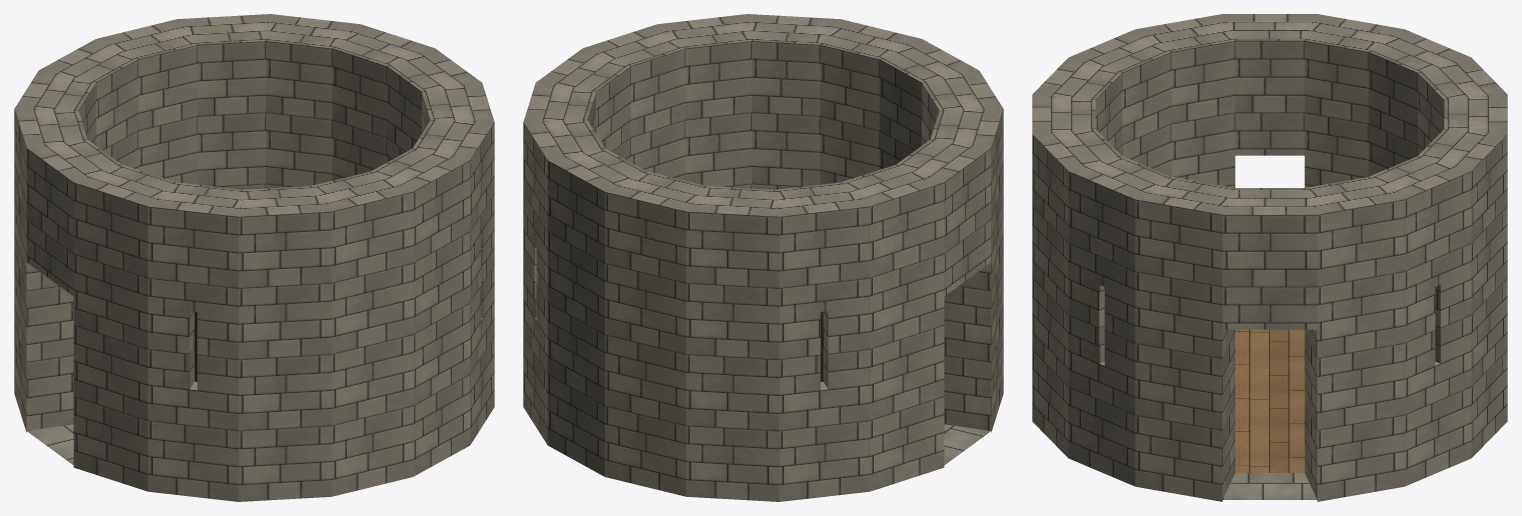
The model's file is tower_cs_round_walk.obj.
3 views of the same model, side by side, from view 1: azimuth 30°, elevation 25°; view 2: azimuth 150°, elevation 25°; view 3: azimuth 270°, elevation 25° (orthographic).
Parts seen in each view (by area): view 1: tower_cs_round_walk_wall11, tower_cs_round_walk_wall10, tower_cs_round_walk_wall12, tower_cs_round_walk_wall09, tower_cs_round_walk_wall13, tower_cs_round_walk_wall03, tower_cs_round_walk_wall02, tower_cs_round_walk_wall04, tower_cs_round_walk_wall14, tower_cs_round_walk_wall01, tower_cs_round_walk_door8, tower_cs_round_walk_jamb8a (+6 smaller); view 2: tower_cs_round_walk_wall05, tower_cs_round_walk_wall06, tower_cs_round_walk_wall04, tower_cs_round_walk_wall07, tower_cs_round_walk_wall03, tower_cs_round_walk_wall13, tower_cs_round_walk_wall14, tower_cs_round_walk_wall12, tower_cs_round_walk_wall02, tower_cs_round_walk_wall15, tower_cs_round_walk_door8, tower_cs_round_walk_jamb8b (+6 smaller); view 3: tower_cs_round_walk_wall01, tower_cs_round_walk_wall15, tower_cs_round_walk_wall02, tower_cs_round_walk_wall14, tower_cs_round_walk_door0, tower_cs_round_walk_wall03, tower_cs_round_walk_wall13, tower_cs_round_walk, tower_cs_round_walk_wall07, tower_cs_round_walk_wall09, tower_cs_round_walk_door8, tower_cs_round_walk_wall06 (+7 smaller).
Part boxes in pixels (box(x1,y1,x2,y2)): tower_cs_round_walk_wall11: box(238, 186, 331, 501); tower_cs_round_walk_wall10: box(148, 182, 242, 501); tower_cs_round_walk_wall12: box(311, 171, 412, 496); tower_cs_round_walk_wall09: box(73, 164, 175, 491); tower_cs_round_walk_wall13: box(371, 148, 470, 476); tower_cs_round_walk_wall03: box(177, 14, 269, 189); tower_cs_round_walk_wall02: box(266, 14, 360, 188); tower_cs_round_walk_wall04: box(96, 19, 197, 184); tower_cs_round_walk_wall14: box(413, 120, 494, 444); tower_cs_round_walk_wall01: box(332, 24, 434, 180); tower_cs_round_walk_door8: box(26, 139, 121, 296); tower_cs_round_walk_jamb8a: box(26, 262, 73, 430); tower_cs_round_walk_wall05: box(686, 186, 779, 501); tower_cs_round_walk_wall06: box(775, 182, 869, 501); tower_cs_round_walk_wall04: box(605, 171, 706, 496); tower_cs_round_walk_wall07: box(842, 164, 944, 491); tower_cs_round_walk_wall03: box(547, 148, 646, 476); tower_cs_round_walk_wall13: box(748, 14, 840, 189); tower_cs_round_walk_wall14: box(657, 14, 751, 188); tower_cs_round_walk_wall12: box(820, 19, 921, 184); tower_cs_round_walk_wall02: box(523, 120, 604, 444); tower_cs_round_walk_wall15: box(583, 24, 685, 180); tower_cs_round_walk_door8: box(896, 139, 991, 296); tower_cs_round_walk_jamb8b: box(944, 262, 991, 430); tower_cs_round_walk_wall01: box(1305, 177, 1404, 501); tower_cs_round_walk_wall15: box(1135, 177, 1234, 501); tower_cs_round_walk_wall02: box(1369, 156, 1471, 486); tower_cs_round_walk_wall14: box(1068, 156, 1170, 486); tower_cs_round_walk_door0: box(1222, 188, 1317, 329); tower_cs_round_walk_wall03: box(1418, 129, 1507, 457); tower_cs_round_walk_wall13: box(1032, 129, 1121, 457); tower_cs_round_walk: box(1223, 329, 1316, 499); tower_cs_round_walk_wall07: box(1304, 14, 1403, 187); tower_cs_round_walk_wall09: box(1136, 14, 1235, 187); tower_cs_round_walk_door8: box(1223, 14, 1316, 155); tower_cs_round_walk_wall06: box(1368, 29, 1470, 176).
Bounding box in the file's own units: 6 × 4.17 × 6.
Materials: 1 (1 with a texture image).
